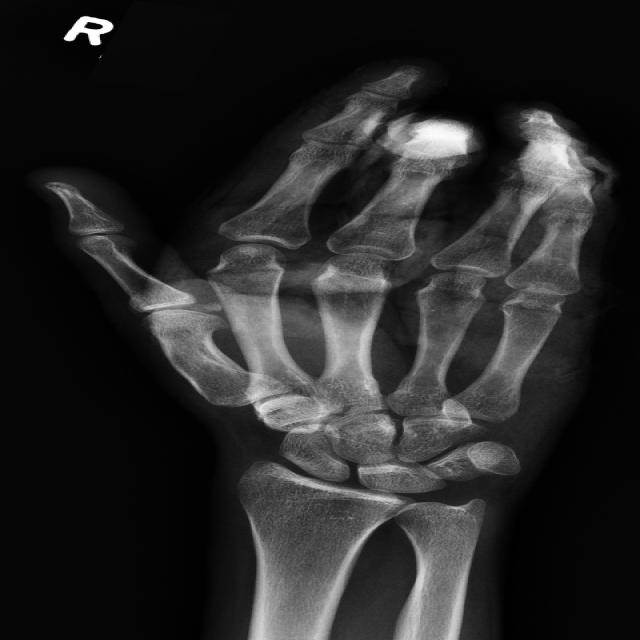fracture: (346, 98, 640, 242)
